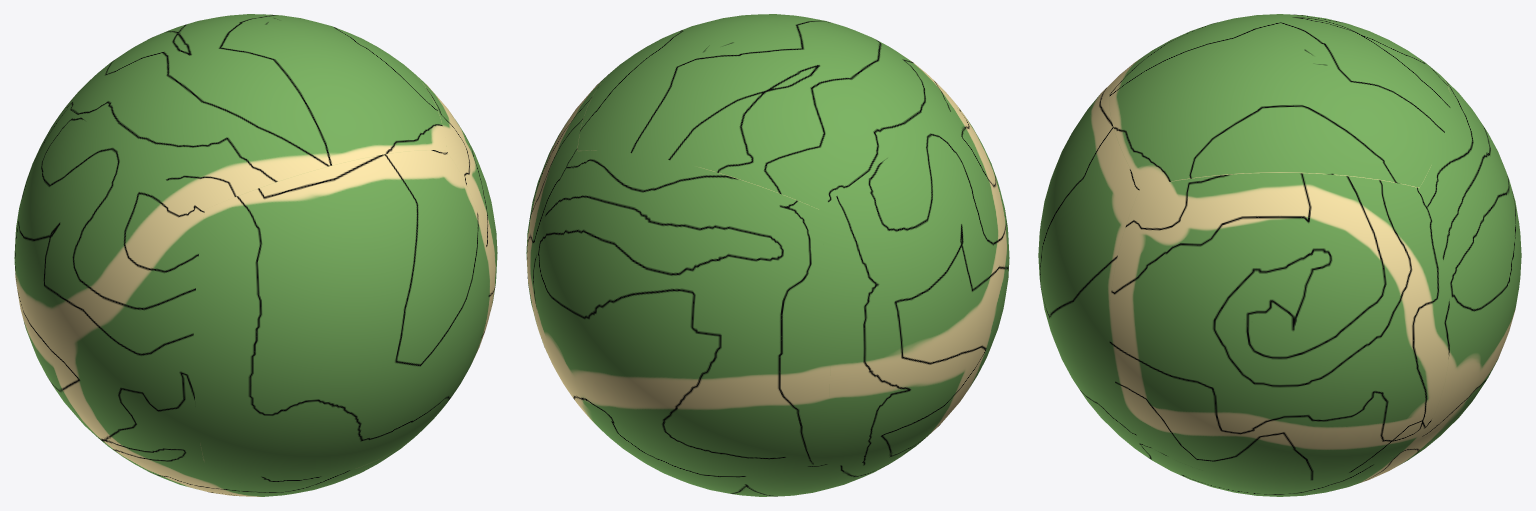
Rendered from world.obj.
3 renders of one model, left to right at view 1: azimuth 30°, elevation 25°; view 2: azimuth 150°, elevation 25°; view 3: azimuth 270°, elevation 25°, orthographic.
Visible parts, largest first — view 1: Cube.002; view 2: Cube.002; view 3: Cube.002.
Part boxes in pixels (left/top/right/bottom): Cube.002: left=14, top=14, right=497, bottom=496; Cube.002: left=526, top=14, right=1009, bottom=496; Cube.002: left=1038, top=14, right=1521, bottom=496.
Size of the model in its own units: 100 by 100 by 100.
